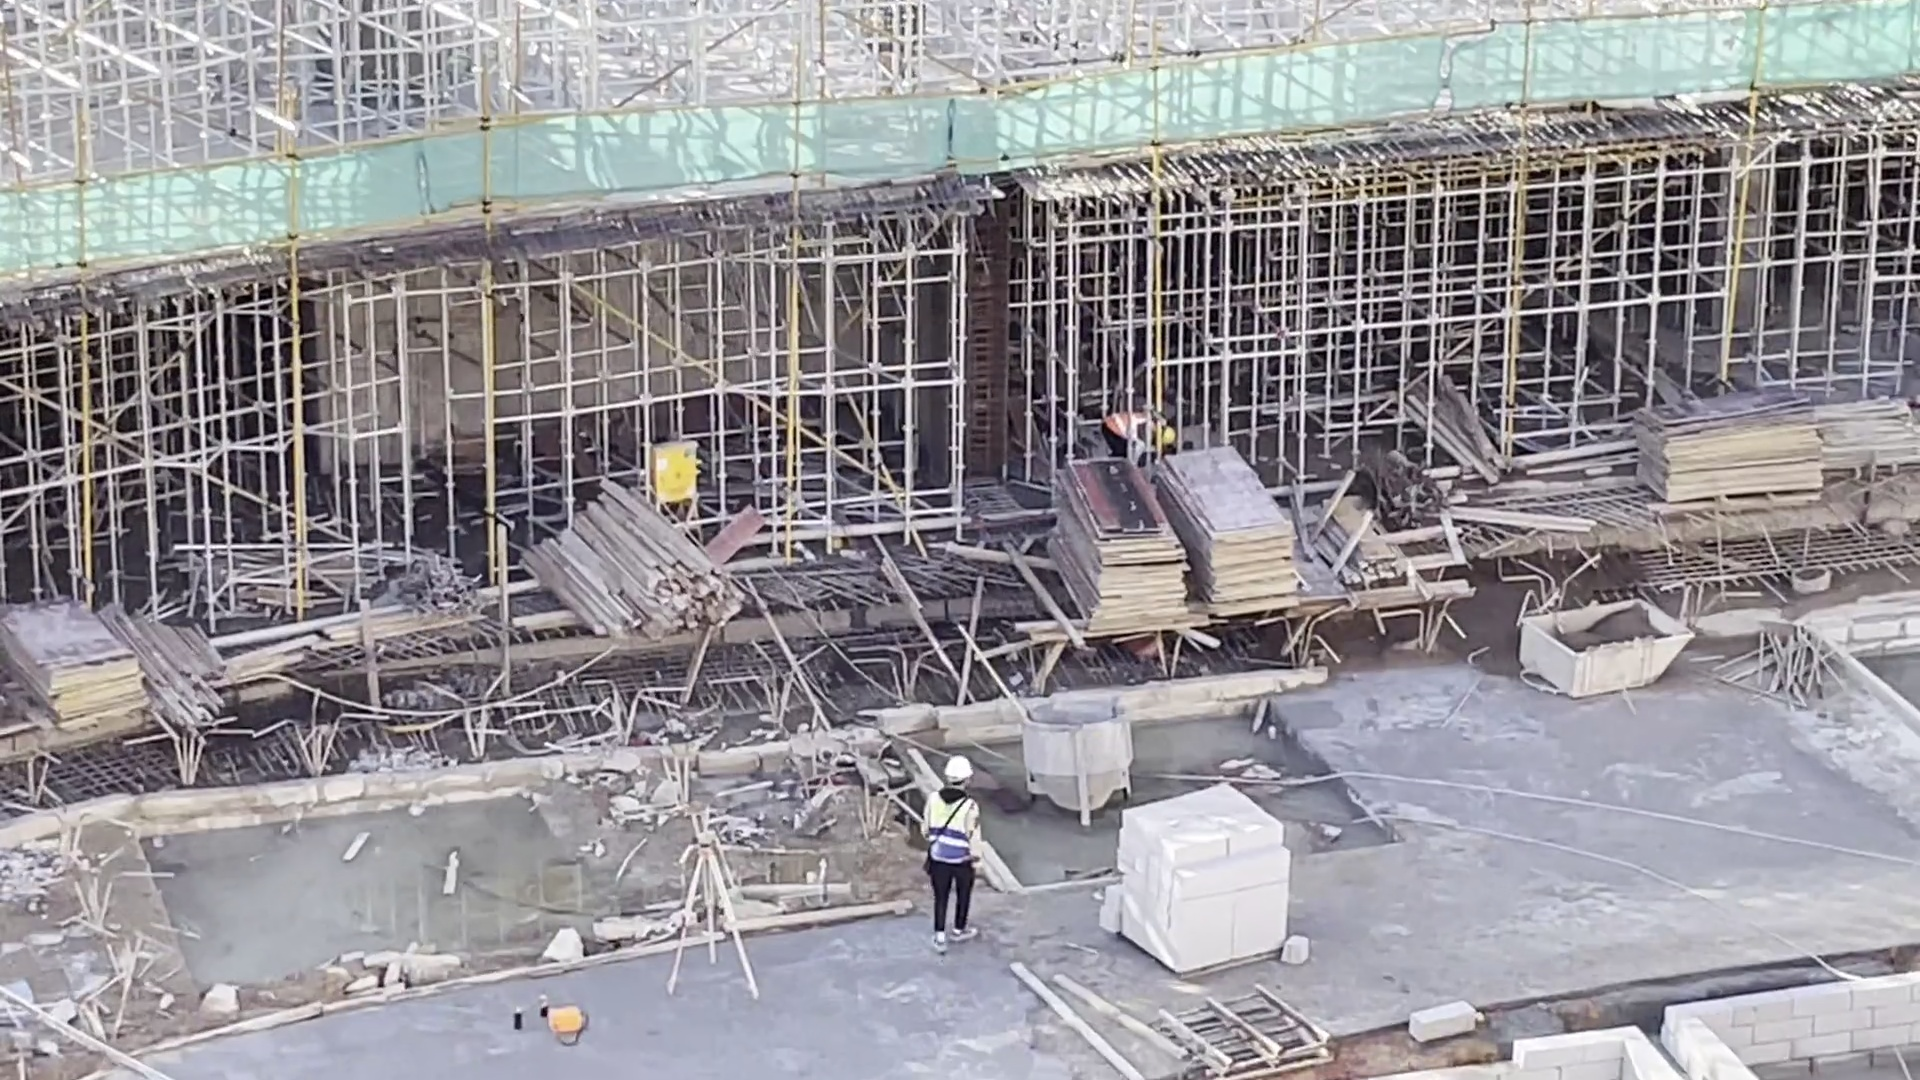board: (1036, 450, 1193, 639), (1630, 380, 1829, 513), (1164, 446, 1306, 615), (1, 587, 156, 735)
brick: (1095, 783, 1293, 968)
ebox: (645, 435, 700, 509)
helmet: (941, 754, 978, 785), (1163, 426, 1175, 445)
hopper: (1522, 597, 1704, 705), (1018, 691, 1132, 824)
person: (917, 754, 988, 956)
vest: (929, 790, 978, 865)
wood: (521, 478, 749, 637), (147, 619, 228, 732)
